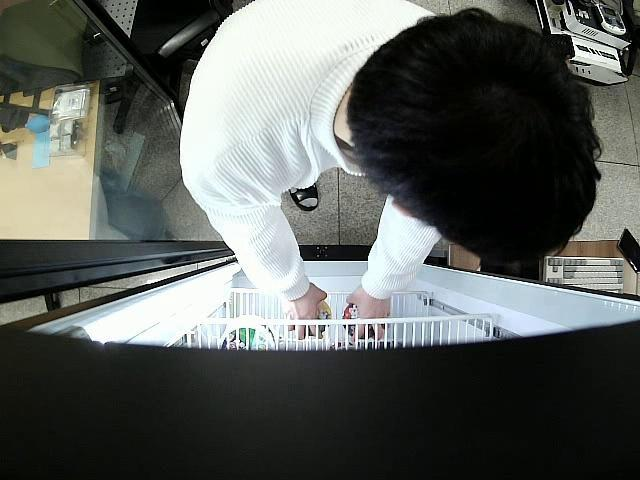08_buldak_S: (342, 306, 374, 340), (317, 302, 330, 337)
